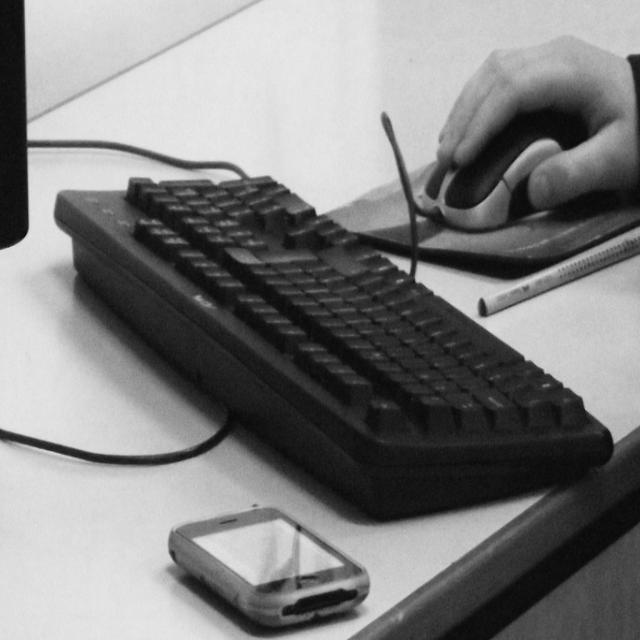Computer mouse: (414, 122, 568, 234)
